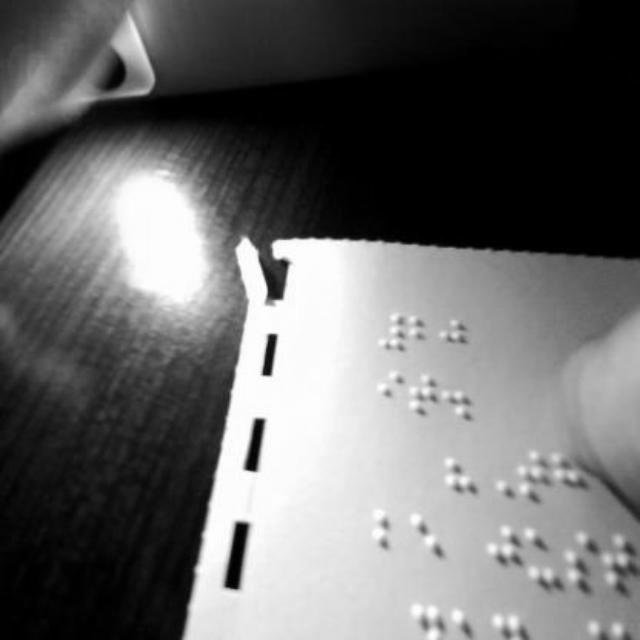braiile: (486, 517, 524, 593), (522, 524, 562, 592), (563, 528, 601, 596), (410, 507, 446, 577), (513, 436, 551, 500), (372, 505, 404, 571), (406, 364, 438, 426), (605, 529, 635, 593), (374, 366, 404, 424), (410, 308, 438, 362), (438, 312, 466, 362)
